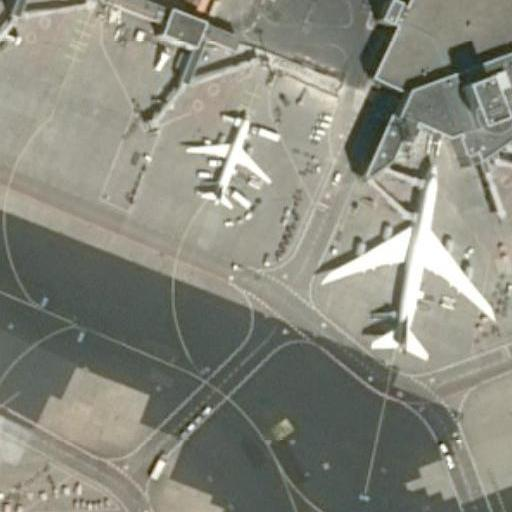Aircraft: (312, 150, 498, 367), (176, 99, 279, 220)
